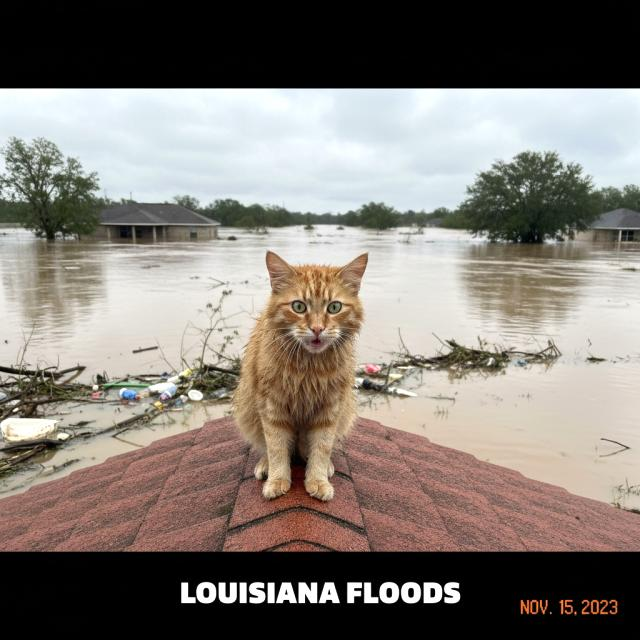cat: (216, 235, 397, 516)
